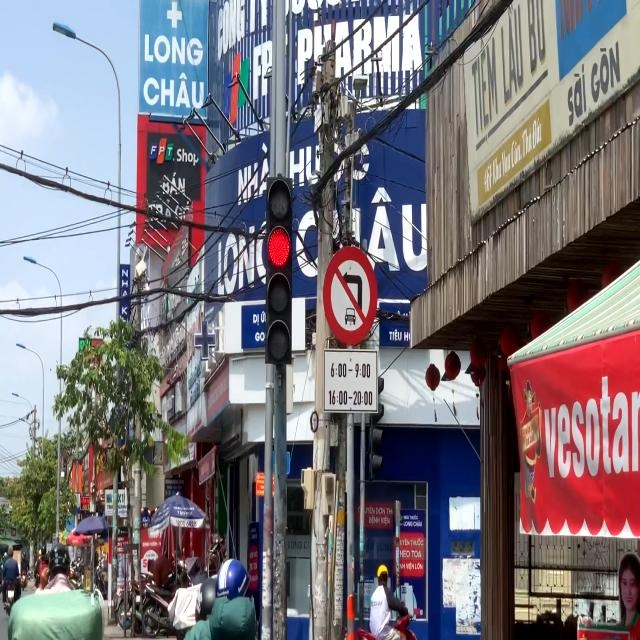bien_cam: (324, 246, 378, 344)
